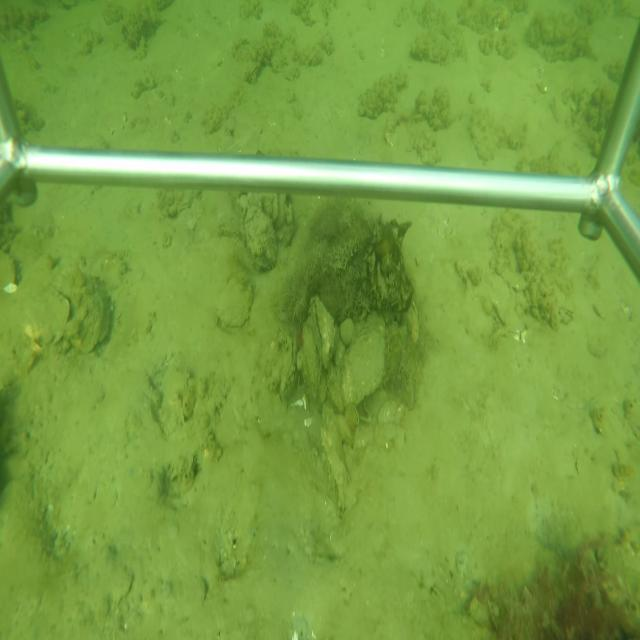Oyster-Closed: (336, 318, 388, 409), (320, 397, 354, 523), (308, 294, 336, 366), (275, 326, 297, 407), (406, 298, 421, 346)
Oyster-Indeterminate: (60, 268, 115, 353), (242, 201, 276, 271)
